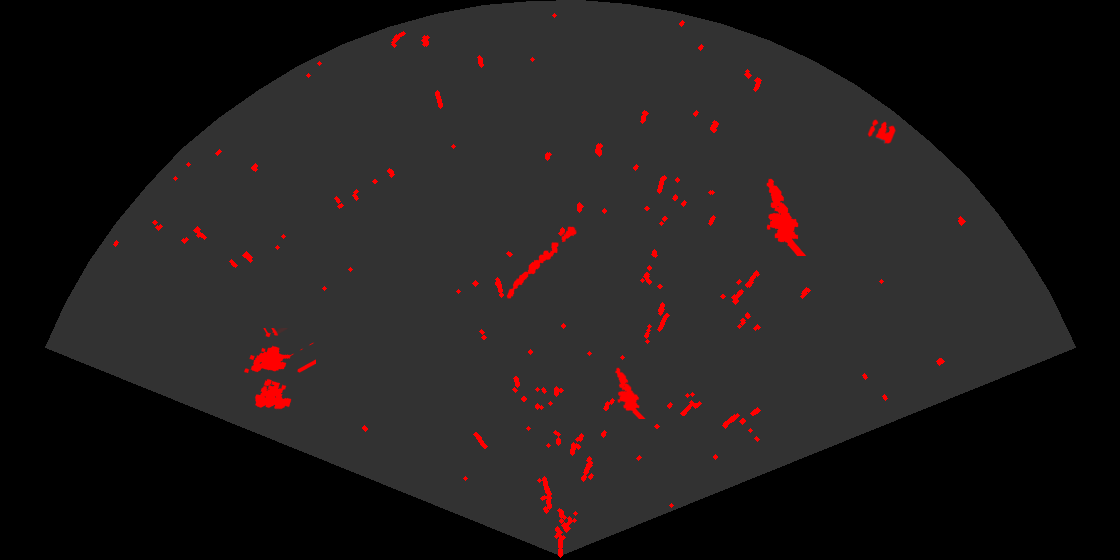ball: (866, 118, 897, 145)
cage: (242, 328, 316, 411)
chain: (505, 225, 578, 300)
frogman: (765, 177, 808, 256), (613, 366, 647, 419)
